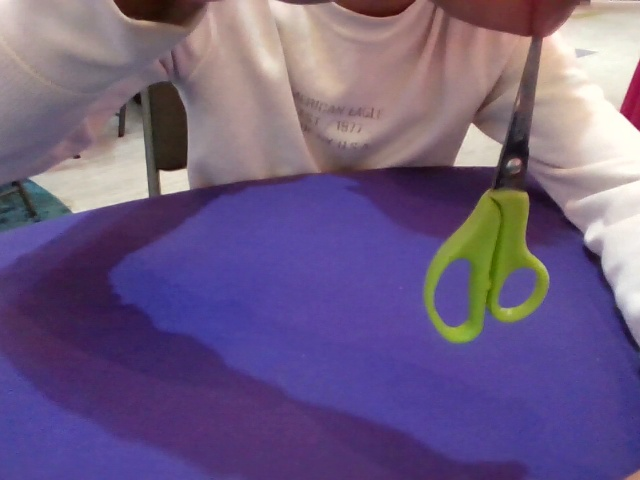tijeras: (421, 6, 549, 346)
